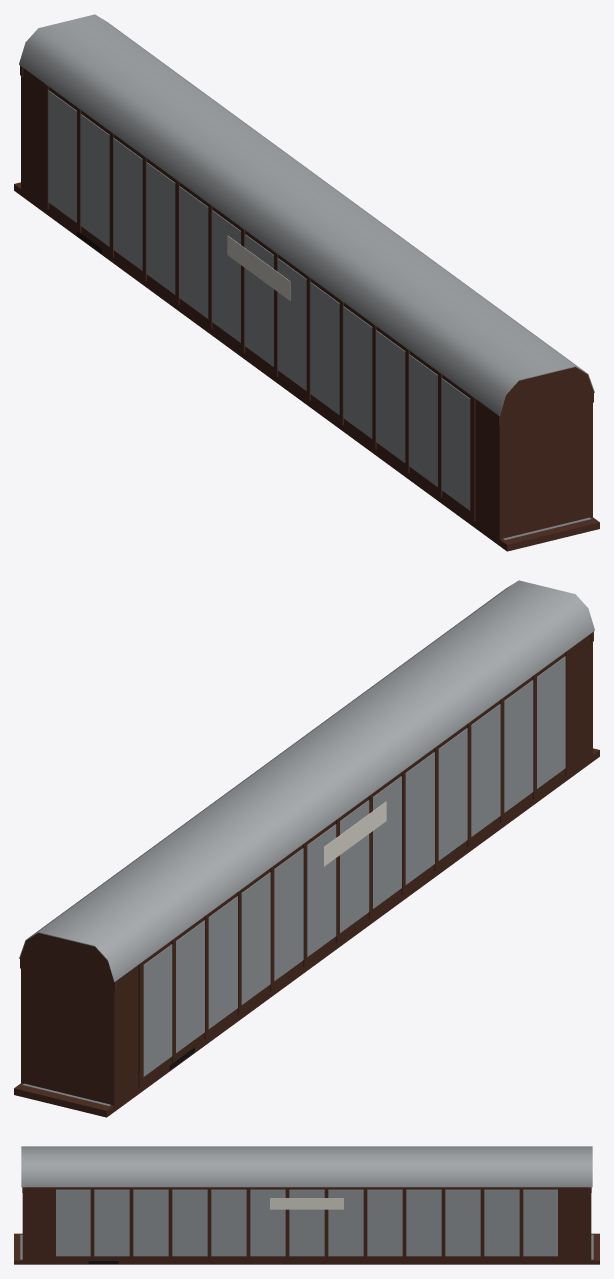
File: body_hblx.glb
3 renders of one model, top to bottom at view 1: azimuth 30°, elevation 25°; view 2: azimuth 150°, elevation 25°; view 3: azimuth 270°, elevation 25°, orthographic. The views are drawn at different scales.
Visible parts, largest first — view 1: Roof, Screen, Rack, Frame, Plate; view 2: Roof, Screen, Rack, Frame, Plate; view 3: Screen, Roof, Rack, Frame, Plate.
Boxes of the visible parts, x1,y1,x2,y2 form: Roof: [19, 14, 594, 415]; Screen: [48, 90, 470, 510]; Rack: [20, 65, 593, 539]; Frame: [14, 182, 599, 551]; Plate: [227, 235, 290, 300]; Roof: [19, 580, 594, 981]; Screen: [143, 656, 565, 1076]; Rack: [20, 631, 593, 1105]; Frame: [14, 748, 599, 1117]; Plate: [323, 801, 386, 866]; Screen: [56, 1189, 557, 1256]; Roof: [21, 1146, 592, 1187]; Rack: [22, 1187, 591, 1260]; Frame: [14, 1233, 599, 1264]; Plate: [270, 1198, 343, 1209].
Size of the model in its own units: 3.1 by 5.37 by 27.43.
